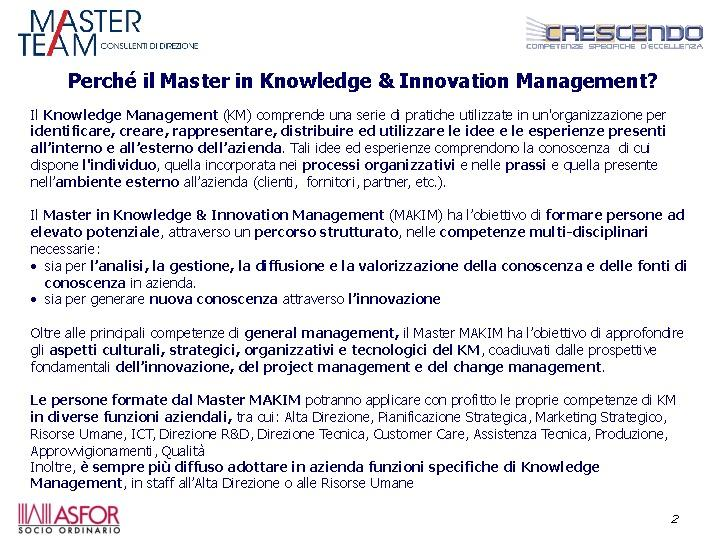paragraph: (22, 99, 702, 493)
title: (62, 59, 675, 103)
